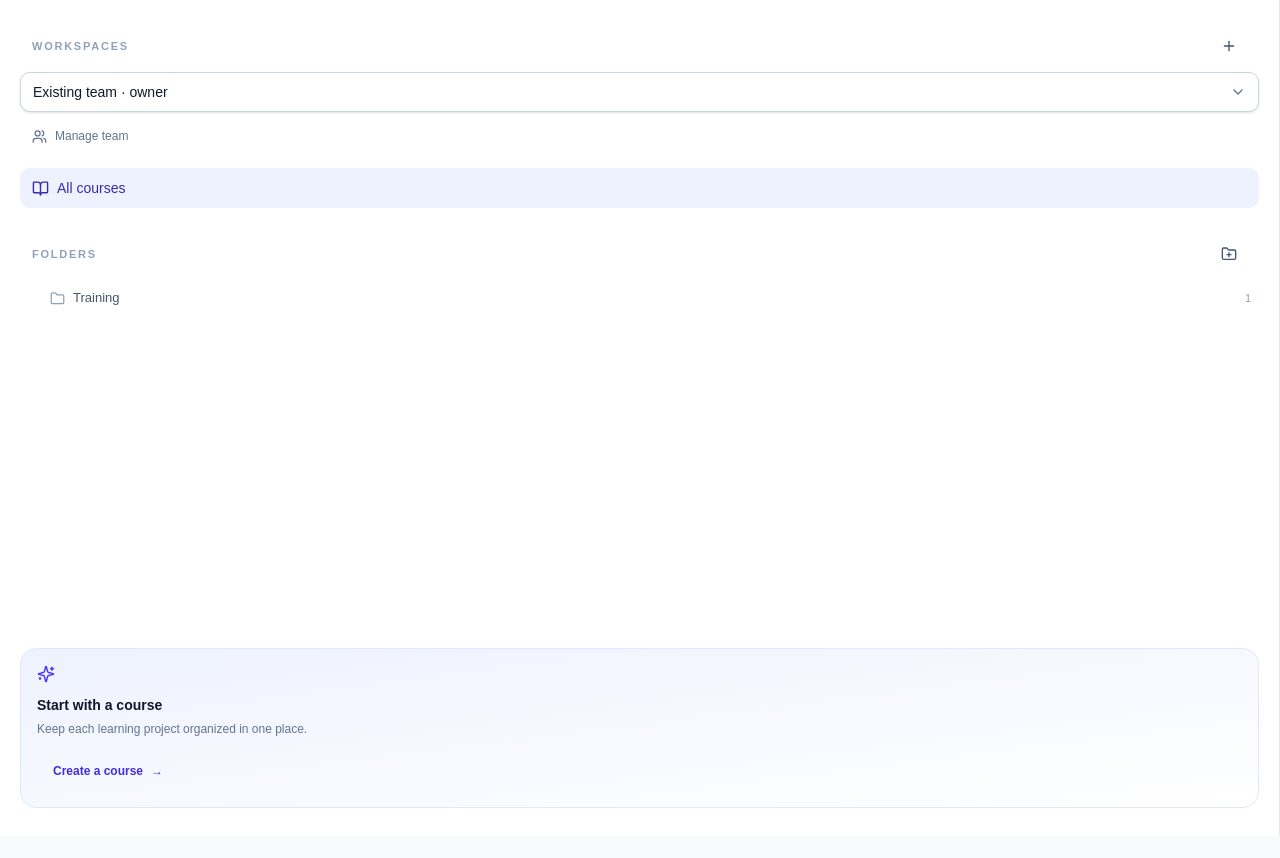
Test: dashboard loading and shared controls › opens team details only through Manage team and resets the dialog before creation
Click the button "Manage team".
click(92, 136)  # box [20,116,1259,156]
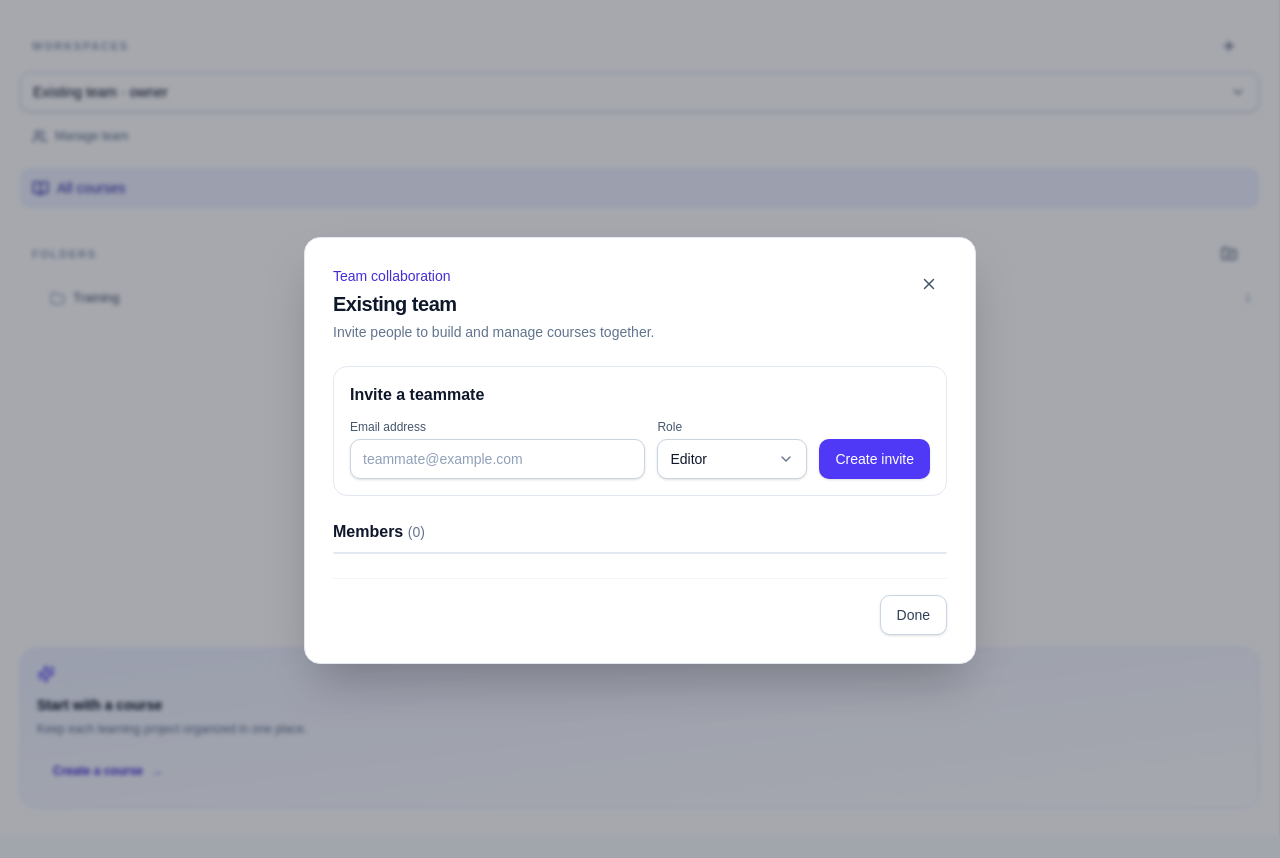
Check: the heading "Existing team" is shown, box [333,292,456,314]
Check: the field named "email" is shown, box [350,438,645,478]
Click the button "Done".
click(913, 614)  # box [880,594,947,634]
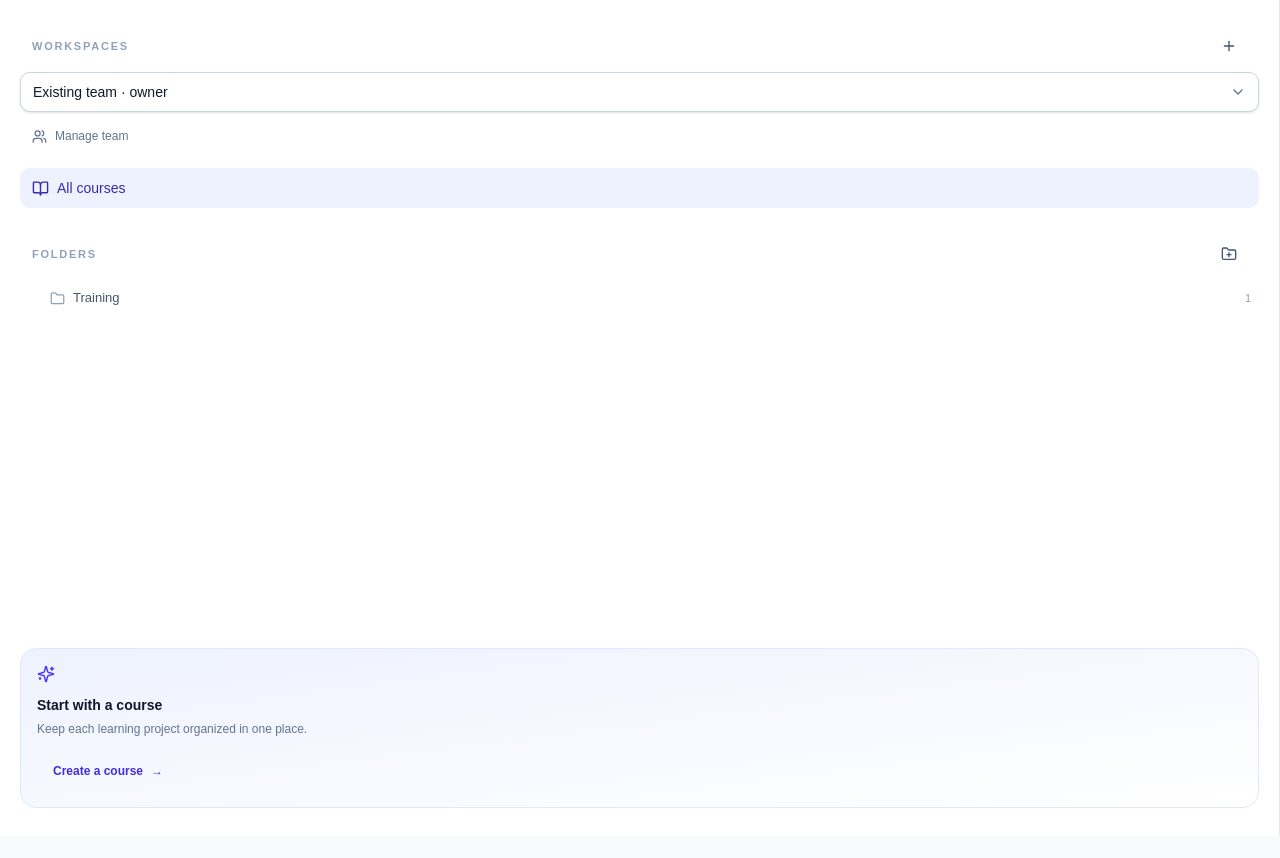
Click the button named "Create team workspace".
click(1229, 46)  # box [1211,28,1247,64]
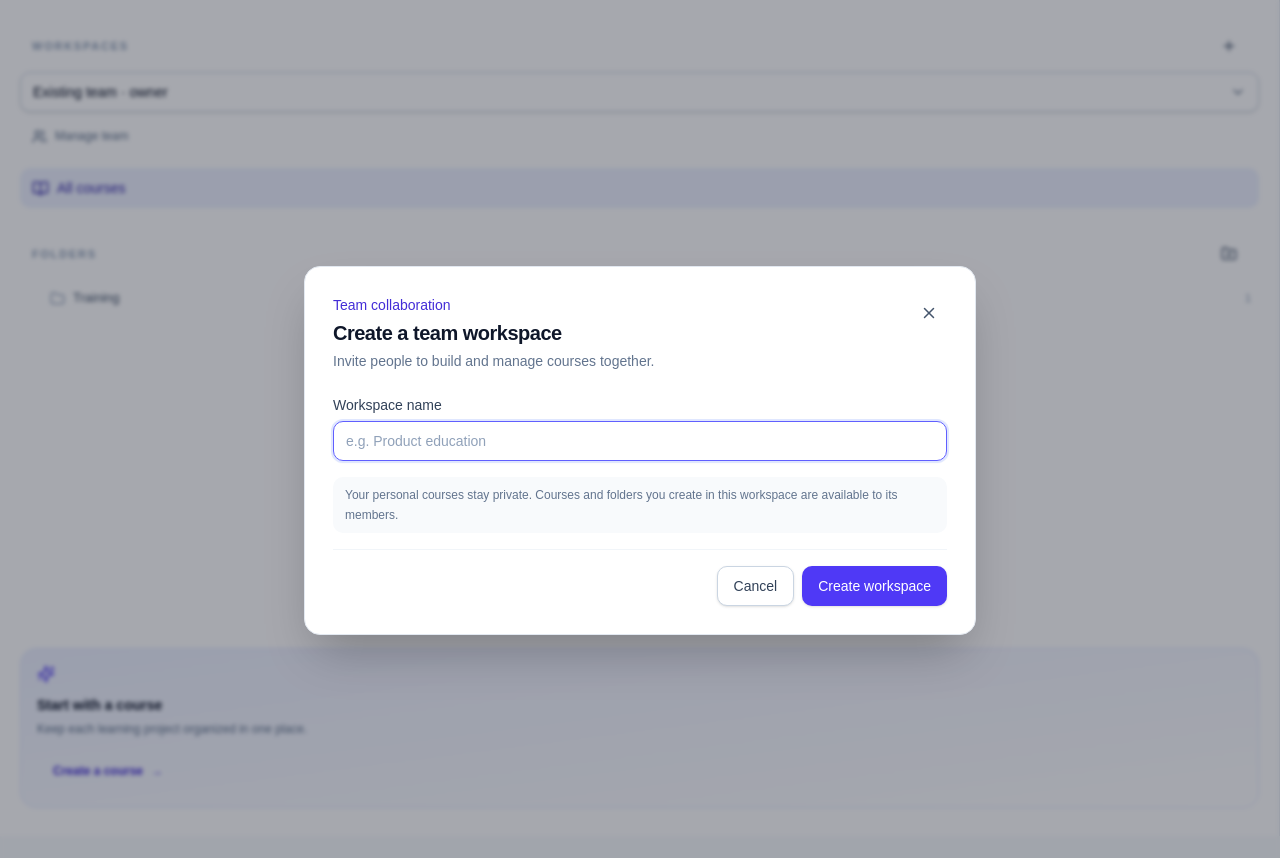
Check: the heading "Create a team workspace" is shown, box [333,322,562,344]
